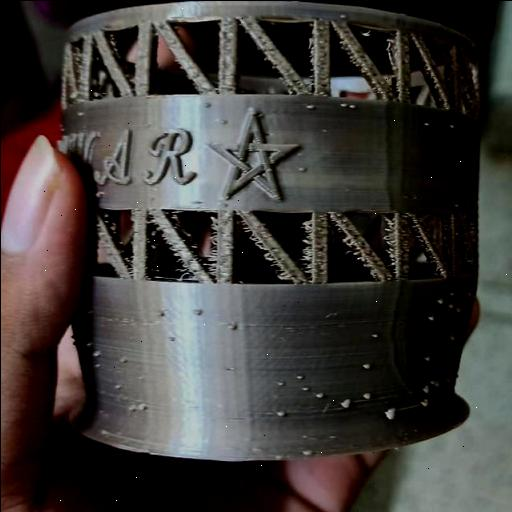blobs: (382, 404, 400, 422), (414, 396, 434, 410), (335, 397, 353, 411), (442, 119, 460, 133), (134, 396, 148, 414), (186, 304, 202, 318), (420, 350, 434, 366), (300, 444, 316, 458), (274, 406, 290, 419), (300, 101, 318, 112), (116, 352, 130, 366), (358, 359, 371, 374), (272, 378, 288, 390), (226, 320, 240, 333), (420, 379, 433, 393), (358, 392, 376, 402), (296, 164, 314, 174), (418, 118, 434, 129), (90, 348, 104, 360), (421, 313, 437, 323), (444, 332, 459, 342), (293, 369, 305, 381), (297, 382, 311, 392), (315, 390, 329, 400), (368, 329, 380, 340), (337, 100, 347, 112), (346, 102, 358, 112), (434, 296, 444, 306)
